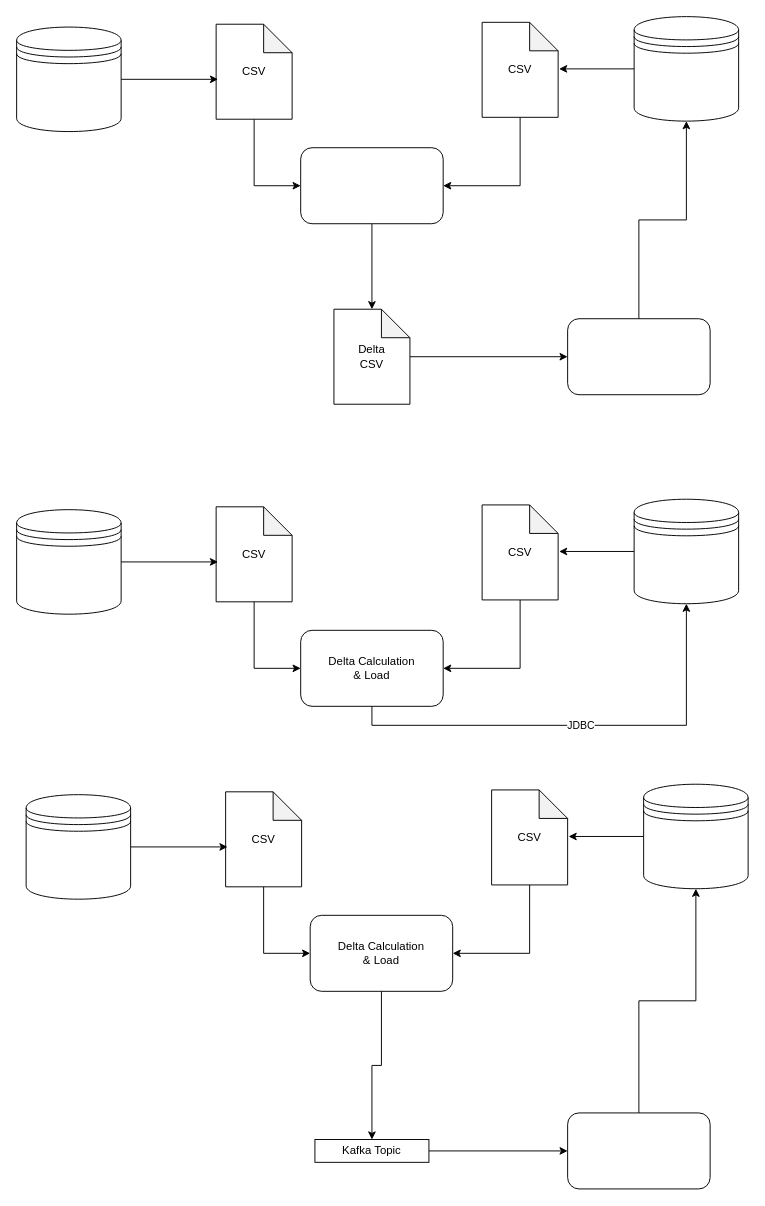
This 765x1206 diagram has some shape labels left out. Each missing label, with the centre of its shape:
"Delta Calculation" goes at (x=371, y=185).
"Delta CSV Load" goes at (x=638, y=356).
"Delta Load via Kafka" goes at (x=638, y=1150).
